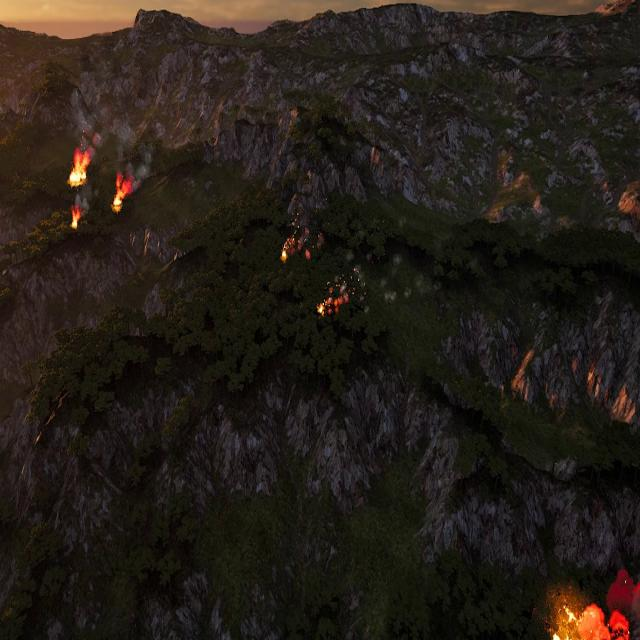fire: (549, 598, 607, 640), (318, 284, 348, 319), (69, 150, 90, 187), (112, 175, 130, 212), (71, 207, 81, 229), (281, 242, 290, 262)
smoke: (608, 555, 640, 638), (126, 148, 154, 190), (73, 192, 90, 214)
